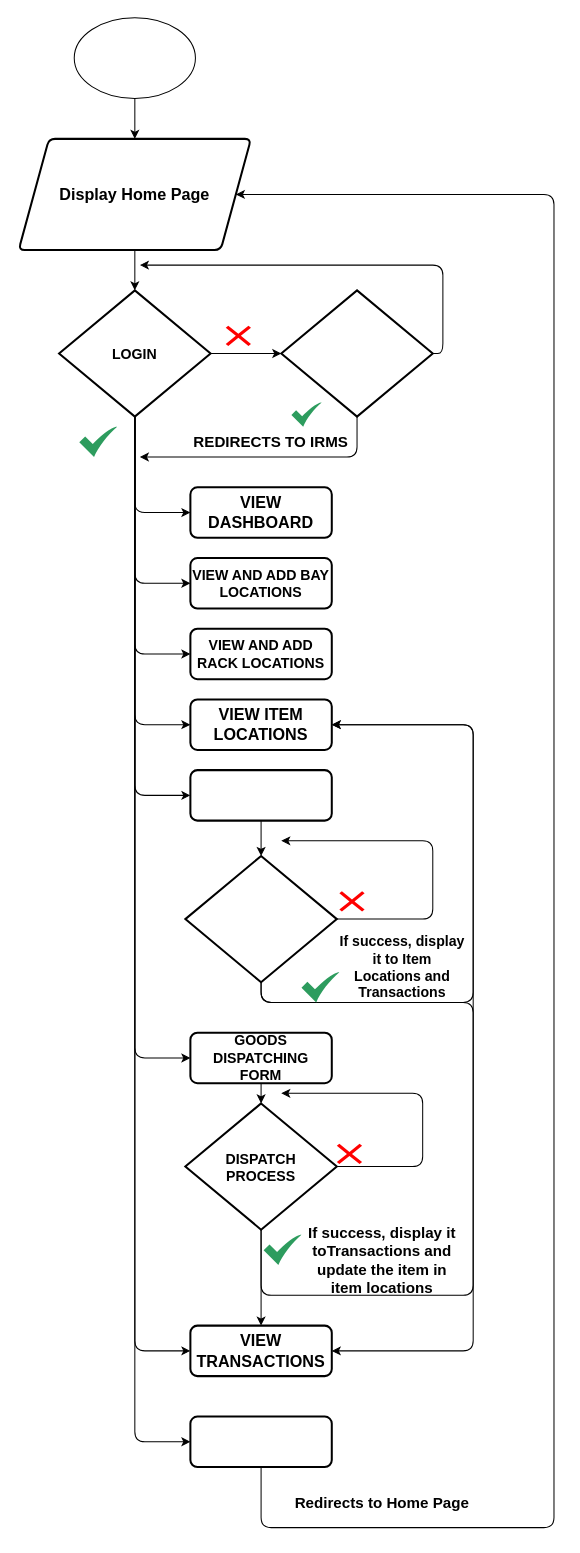
Image size: 580x1553. Some labels were removed from this diagram. The box of each missing label's shape, as (x1, y1, x2, y2) in pixels:
GOODS RECEIVING FORM: (189, 769, 332, 821)
LOGOUT: (189, 1415, 332, 1468)
RECIEVE PROCESS: (184, 854, 337, 983)
REGISTER: (280, 289, 433, 417)
START: (73, 17, 195, 98)
